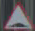Speed Breaker ahead: (3, 1, 34, 29)
